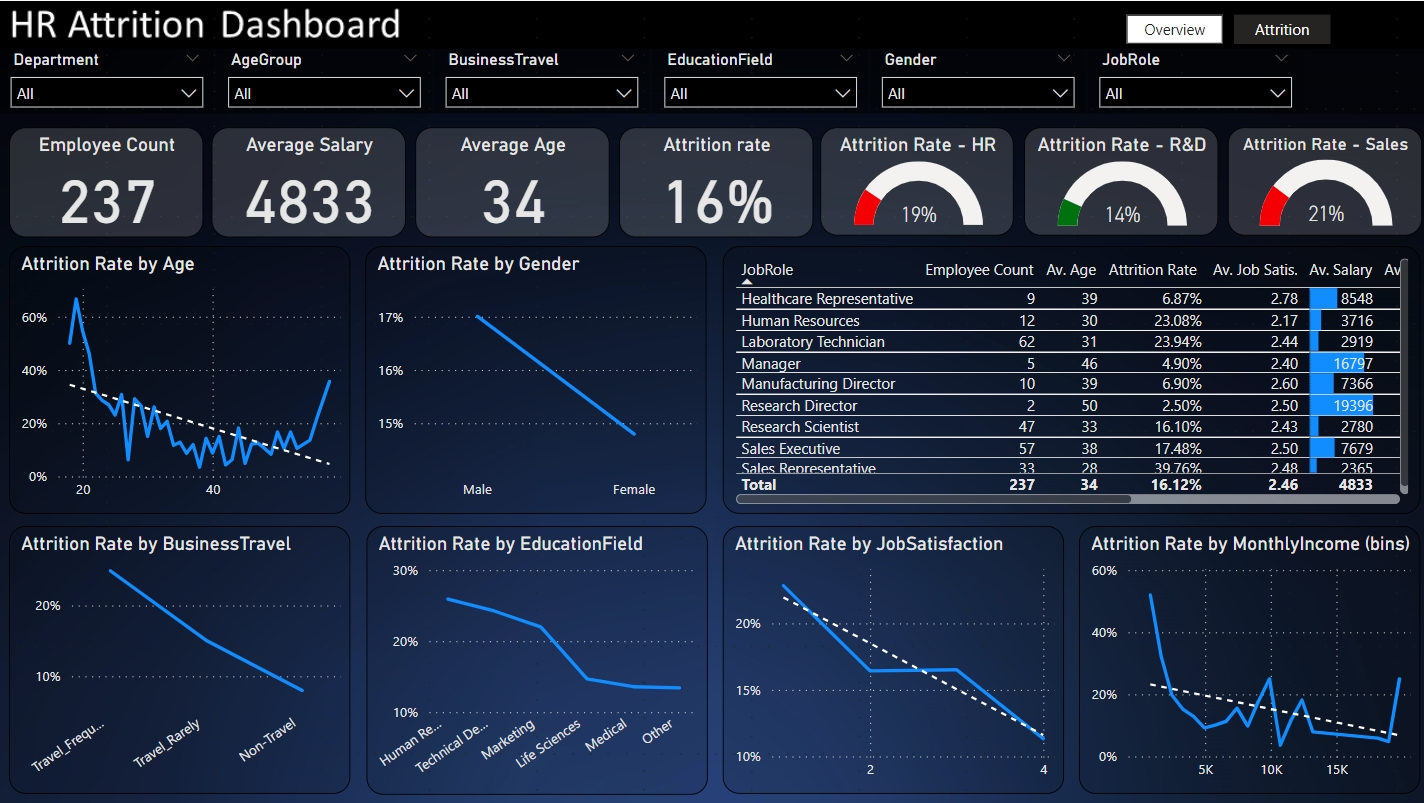

This screenshot's page, from the dashboard's own definition file:
{"tool":"powerbi","page":{"name":"Attrition","canvas":[1280,720],"ordinal":1},"visuals":[{"type":"slicer","fields":{"Values":["HR_Analytics.Department"]},"box":[0,39,192,60.7],"z":0},{"type":"card","title":"Employee Count","fields":{"Values":["HR_Analytics.Employee Count"]},"box":[8.7,112.7,173.4,98.2],"z":1000},{"type":"slicer","fields":{"Values":["HR_Analytics.AgeGroup"]},"box":[194.3,39,192.1,60.7],"z":2000},{"type":"slicer","fields":{"Values":["HR_Analytics.BusinessTravel"]},"box":[388.8,39,192.1,60.7],"z":3000},{"type":"slicer","fields":{"Values":["HR_Analytics.EducationField"]},"box":[583.3,39,192.1,60.7],"z":4000},{"type":"slicer","fields":{"Values":["HR_Analytics.Gender"]},"box":[777.8,39,192.1,60.7],"z":5000},{"type":"slicer","fields":{"Values":["HR_Analytics.JobRole"]},"box":[972.3,39,192.1,60.7],"z":6000},{"type":"card","title":"Average Age","fields":{"Values":["HR_Analytics.Average Age"]},"box":[371.8,112.7,173.4,98.2],"z":7000},{"type":"card","title":"Average Salary","fields":{"Values":["HR_Analytics.Average Salary"]},"box":[190.2,112.7,173.4,98.2],"z":8000},{"type":"card","title":"Attrition rate","fields":{"Values":["HR_Analytics.Attrition Rate "]},"box":[553.3,112.7,173.4,98.2],"z":9000},{"type":"tableEx","fields":{"Values":["HR_Analytics.JobRole","HR_Analytics.Employee Count","HR_Analytics.Average Age","HR_Analytics.Attrition Rate ","HR_Analytics.Average Job Satisfaction","HR_Analytics.Average Salary","HR_Analytics.Average Salary Hike","HR_Analytics.Gender Ratio","HR_Analytics.OverTime %","HR_Analytics.Average Years","HR_Analytics.Attrition Count"]},"box":[646.7,218.6,623.1,239.6],"z":10000},{"type":"gauge","title":"Attrition Rate - HR","fields":{"Y":["HR_Analytics.Attrition Rate "]},"box":[733.9,112.7,173,96.8],"z":11000},{"type":"gauge","title":"Attrition Rate - R&D","fields":{"Y":["HR_Analytics.Attrition Rate "]},"box":[915,112.6,173.2,96.9],"z":12000},{"type":"gauge","title":"Attrition Rate - Sales","fields":{"Y":["HR_Analytics.Attrition Rate "]},"box":[1096.9,112.6,173.2,96.9],"z":13000},{"type":"lineChart","fields":{"Y":["HR_Analytics.Attrition Rate "],"Category":["HR_Analytics.Age"]},"box":[9.2,218.6,305,239.6],"z":14000},{"type":"lineChart","fields":{"Y":["HR_Analytics.Attrition Rate "],"Category":["HR_Analytics.BusinessTravel"]},"box":[9.2,468.7,305,239.6],"z":15000},{"type":"lineChart","fields":{"Y":["HR_Analytics.Attrition Rate "],"Category":["HR_Analytics.EducationField"]},"box":[327.7,468.7,305,240],"z":16000},{"type":"lineChart","fields":{"Y":["HR_Analytics.Attrition Rate "],"Category":["HR_Analytics.Gender"]},"box":[327.3,218.6,305,239.6],"z":17000},{"type":"lineChart","fields":{"Y":["HR_Analytics.Attrition Rate "],"Category":["HR_Analytics.JobSatisfaction"]},"box":[646.2,468.7,305,239.6],"z":18000},{"type":"lineChart","fields":{"Y":["HR_Analytics.Attrition Rate "],"Category":["HR_Analytics.MonthlyIncome (bins)"]},"box":[964.8,468.7,305,239.6],"z":19000},{"type":"pageNavigator","box":[1006.8,12.7,183.1,26.8],"z":20000}]}

Visuals, with their boxes in screenshot pixels (x1, y1, x2, y2), scaled from the page's 1280x720 canvas onto the 1424x803 screenshot:
slicer - HR_Analytics.Department: [left=0, top=43, right=214, bottom=111]
"Employee Count" card: [left=10, top=126, right=203, bottom=235]
slicer - HR_Analytics.AgeGroup: [left=216, top=43, right=430, bottom=111]
slicer - HR_Analytics.BusinessTravel: [left=433, top=43, right=646, bottom=111]
slicer - HR_Analytics.EducationField: [left=649, top=43, right=863, bottom=111]
slicer - HR_Analytics.Gender: [left=865, top=43, right=1079, bottom=111]
slicer - HR_Analytics.JobRole: [left=1082, top=43, right=1295, bottom=111]
"Average Age" card: [left=414, top=126, right=607, bottom=235]
"Average Salary" card: [left=212, top=126, right=405, bottom=235]
"Attrition rate" card: [left=616, top=126, right=808, bottom=235]
tableEx - HR_Analytics.JobRole x HR_Analytics.Employee Count: [left=719, top=244, right=1413, bottom=511]
"Attrition Rate - HR" gauge: [left=816, top=126, right=1009, bottom=234]
"Attrition Rate - R&D" gauge: [left=1018, top=126, right=1211, bottom=234]
"Attrition Rate - Sales" gauge: [left=1220, top=126, right=1413, bottom=234]
lineChart - HR_Analytics.Attrition Rate  x HR_Analytics.Age: [left=10, top=244, right=350, bottom=511]
lineChart - HR_Analytics.Attrition Rate  x HR_Analytics.BusinessTravel: [left=10, top=523, right=350, bottom=790]
lineChart - HR_Analytics.Attrition Rate  x HR_Analytics.EducationField: [left=365, top=523, right=704, bottom=790]
lineChart - HR_Analytics.Attrition Rate  x HR_Analytics.Gender: [left=364, top=244, right=703, bottom=511]
lineChart - HR_Analytics.Attrition Rate  x HR_Analytics.JobSatisfaction: [left=719, top=523, right=1058, bottom=790]
lineChart - HR_Analytics.Attrition Rate  x HR_Analytics.MonthlyIncome (bins): [left=1073, top=523, right=1413, bottom=790]
pageNavigator: [left=1120, top=14, right=1324, bottom=44]
